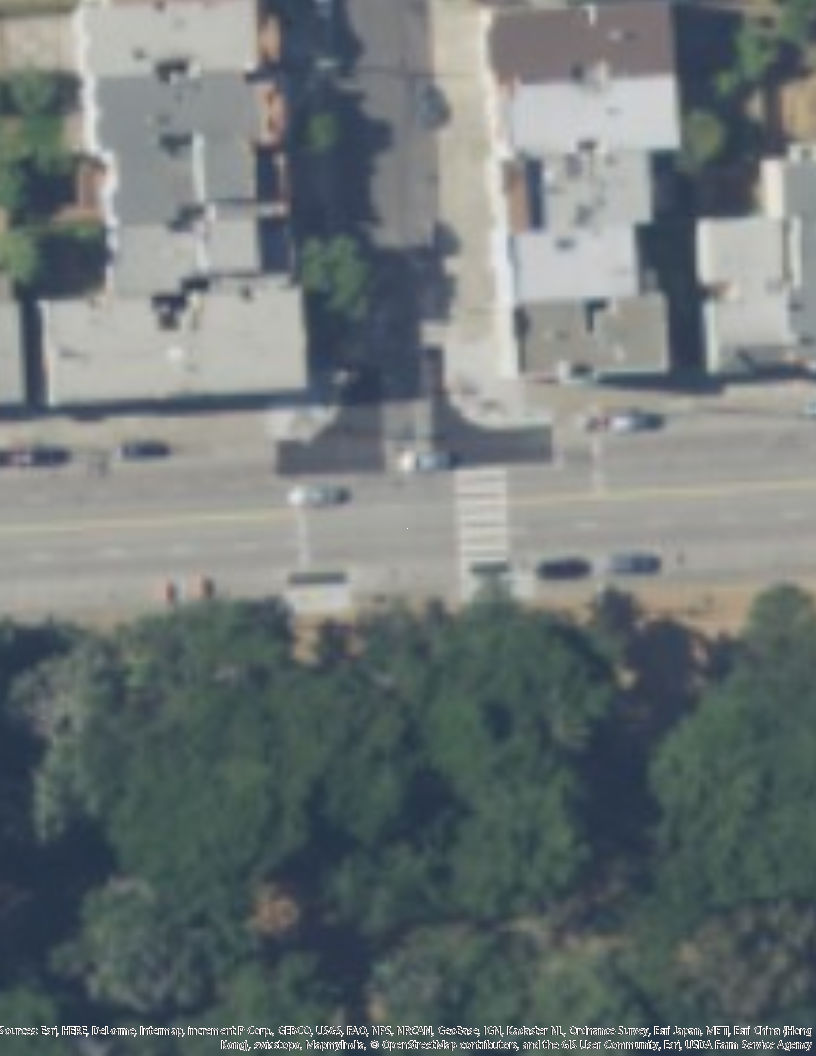zebracross: (454, 460, 508, 577)
